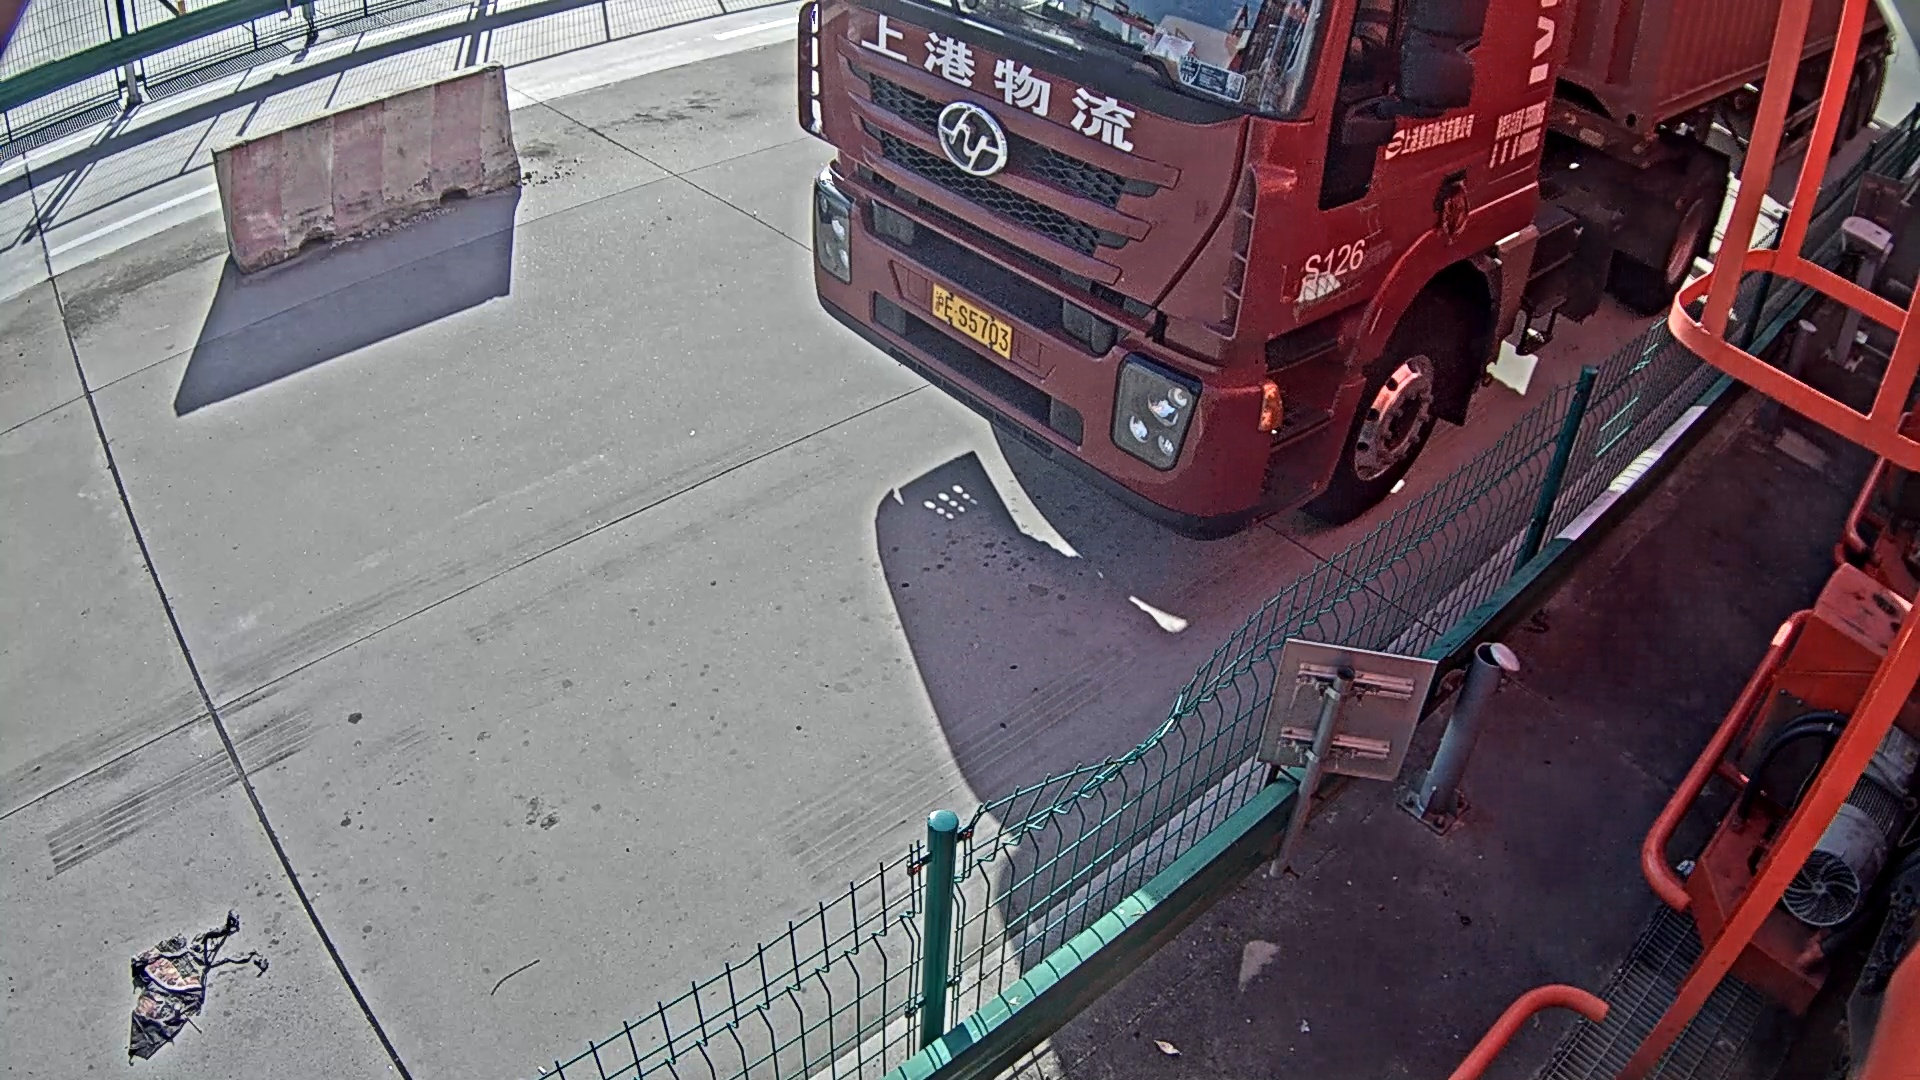head: (793, 1, 1556, 530)
plate: (927, 281, 1018, 351)
